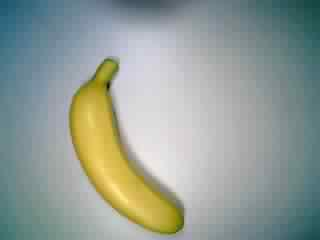banana: (64, 57, 185, 238)
